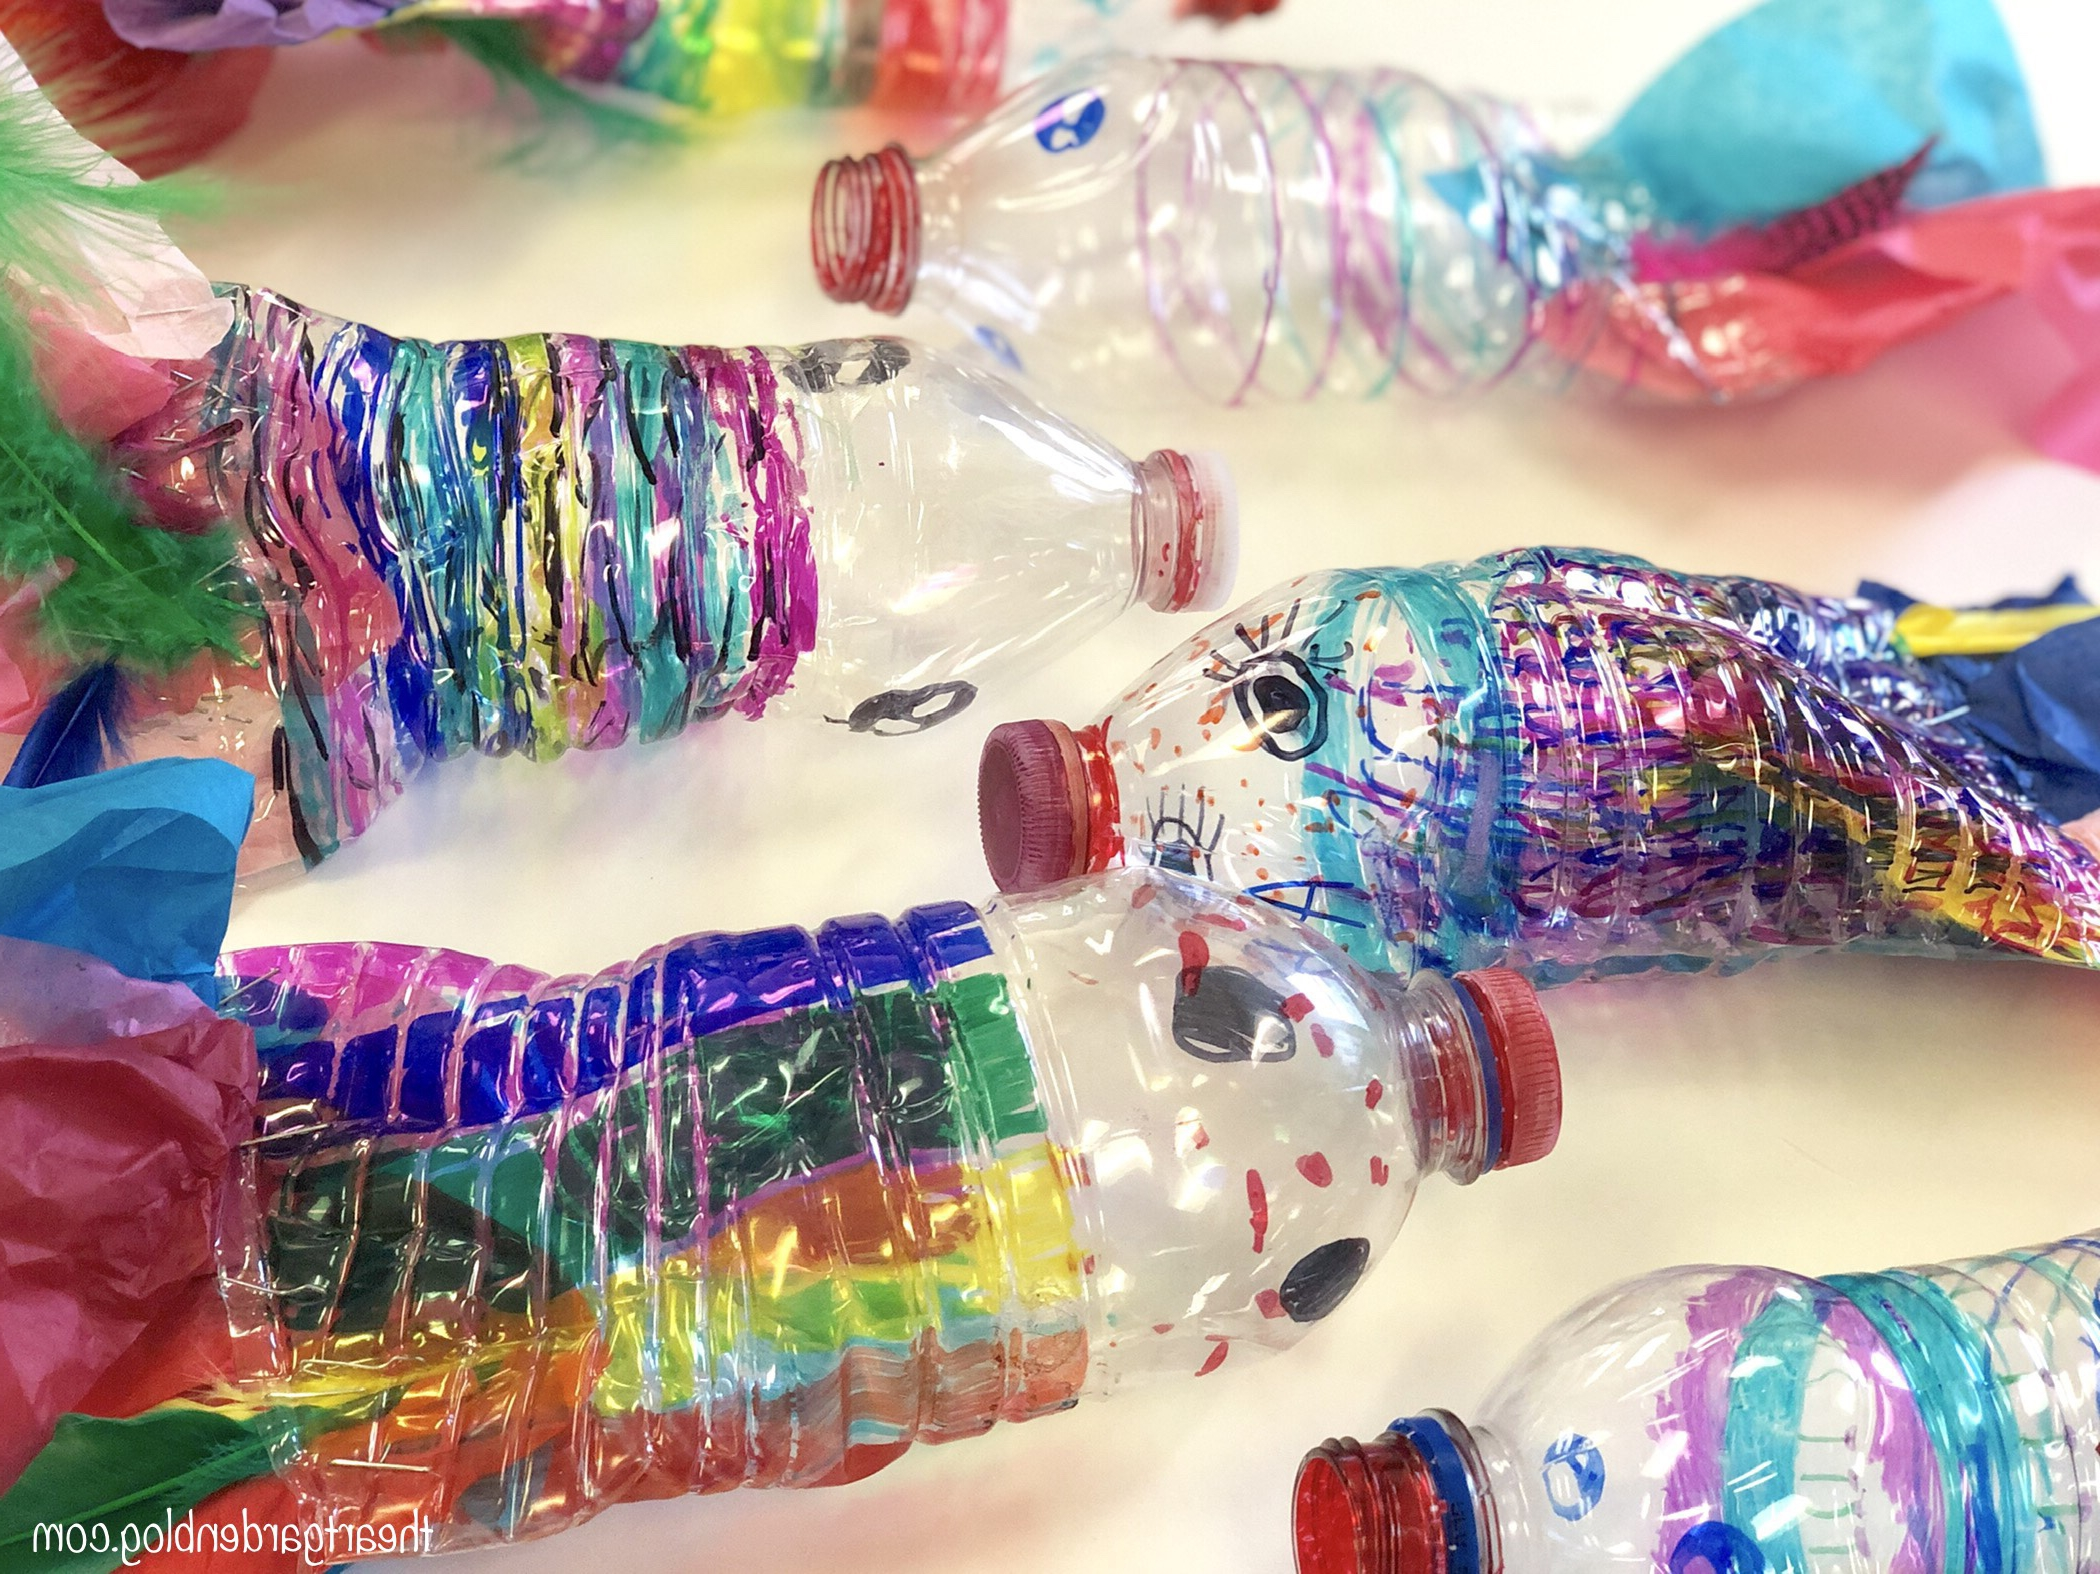plastic water bottle: (3, 856, 1571, 1483), (2, 273, 1248, 780), (800, 13, 2055, 436), (961, 547, 2100, 990), (1281, 1220, 2100, 1574)
